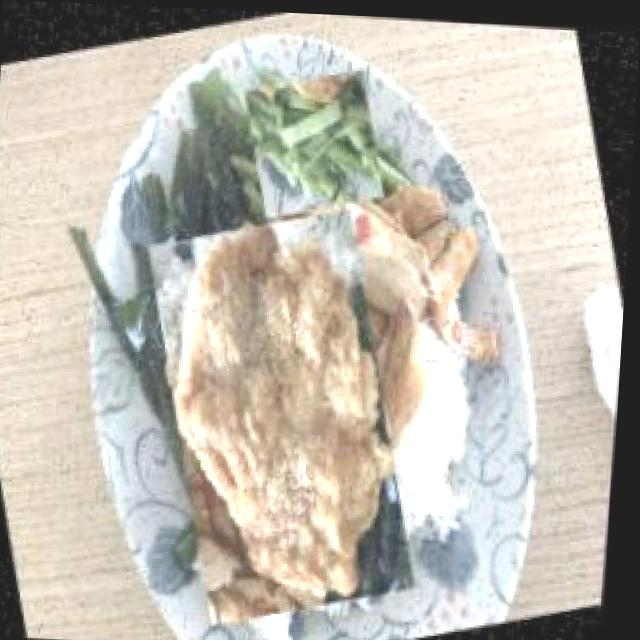fried_chicken: (126, 193, 446, 634)
water_spinach: (238, 61, 396, 224)
